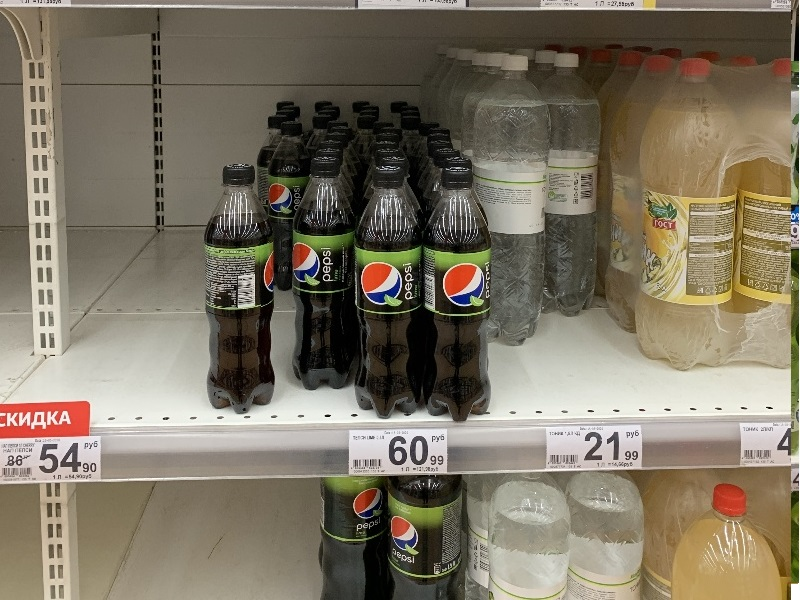lemonade: (196, 159, 282, 423), (348, 164, 431, 421), (423, 166, 504, 429), (289, 155, 364, 398)
